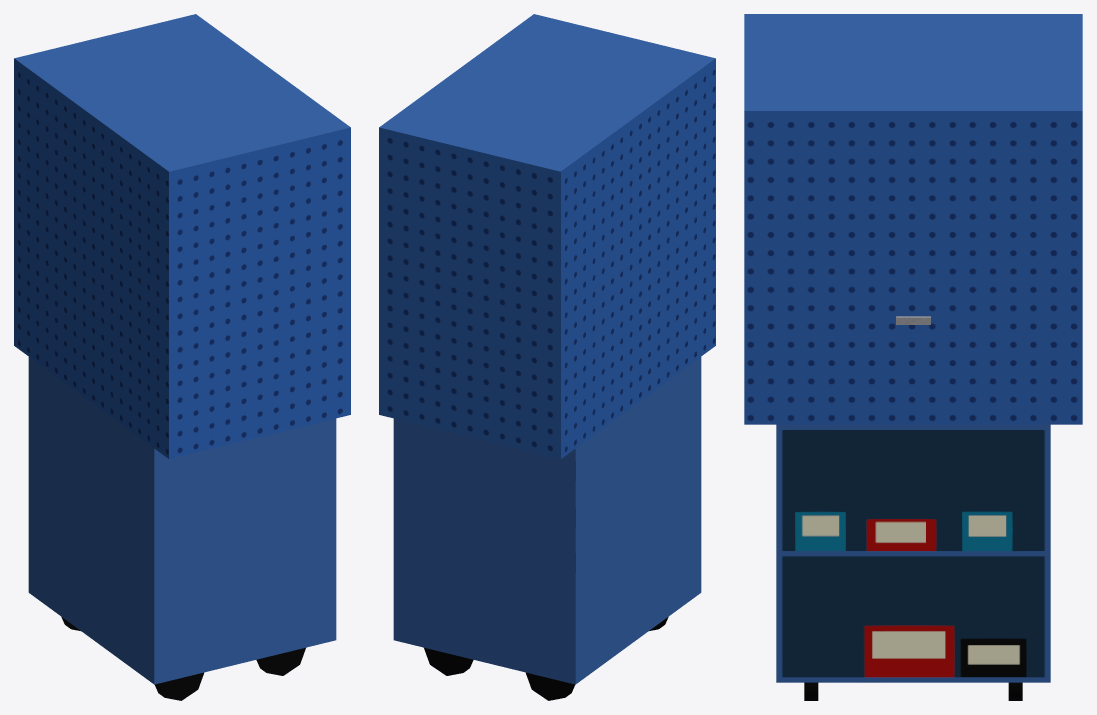
File: Elec_Blue cabinet.fbx
3 views of the same model, side by side, from view 1: azimuth 30°, elevation 25°; view 2: azimuth 150°, elevation 25°; view 3: azimuth 270°, elevation 25° (orthographic). The views are drawn at different scales.
Parts seen in each view (by area): view 1: Cube; view 2: Cube; view 3: Cube.
Part boxes in pixels (left/top/right/bottom): Cube: left=14, top=14, right=350, bottom=700; Cube: left=379, top=14, right=715, bottom=700; Cube: left=744, top=14, right=1082, bottom=700.
Bounding box in the file's own units: 147 × 427 × 215.
Materials: 1 (1 with a texture image).
